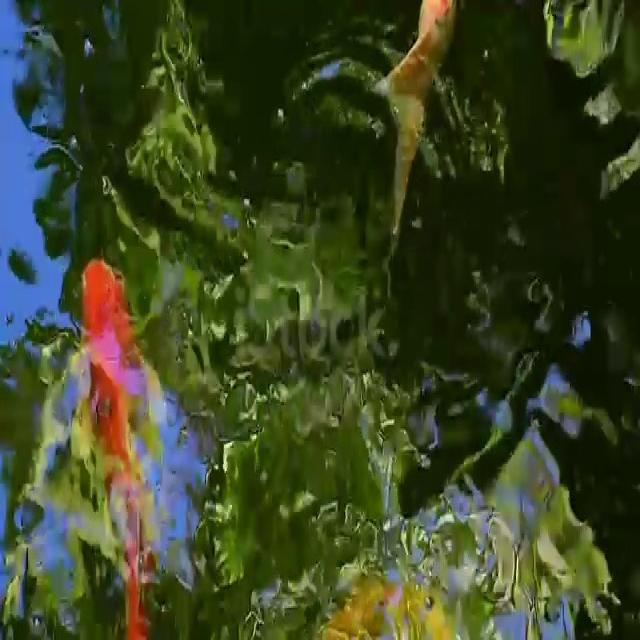fish: (74, 213, 204, 640)
